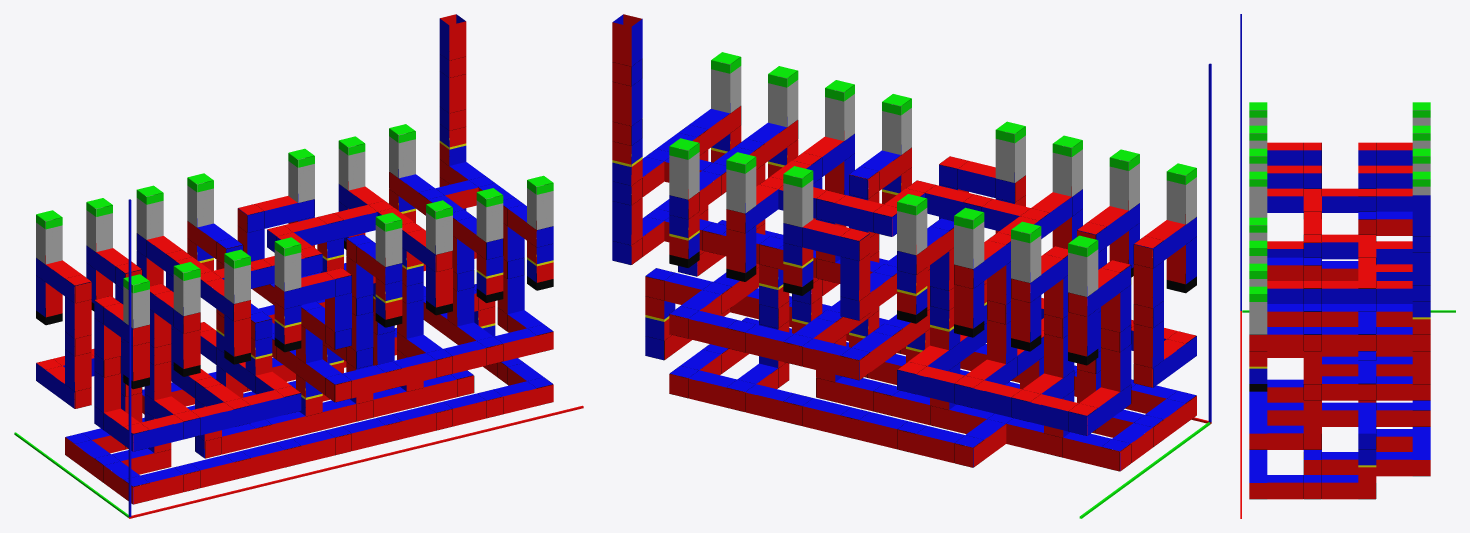
Rendered from factory162.gltf.
3 views of the same model, side by side, from view 1: azimuth 30°, elevation 25°; view 2: azimuth 150°, elevation 25°; view 3: azimuth 270°, elevation 25° (orthographic). The views are drawn at different scales.
Visible parts, largest first — view 1: axisI:-J, axisK:-J, axisI:+K, edgeK(7, 0, 3):-J, edgeK(1, 0, 2):-J, edgeK(3, 0, 3):-J, edgeK(1, 0, 3):-J, edgeK(5, 0, 2):-J, edgeK(7, 0, 2):-J, edgeK(5, 1, 1):-J, edgeK(8, 3, 4):-J, edgeK(5, 0, 3):-J (+12 smaller); view 2: axisK:+J, edgeJ(6, 3, 3):+J, edgeJ(8, 2, 0):+J, edgeJ(0, 1, 2):+J, edgeJ(5, 3, 2):+J, edgeJ(7, 3, 3):+J, edgeJ(8, 3, 2):+J, edgeJ(8, 3, 3):+J, edgeJ(8, 3, 4):+J, edgeJ(8, 3, 5):+J, edgeJ(0, 1, 1):+J, edgeJ(3, 0, 3):+J (+44 smaller); view 3: edgeJ(8, 0, 3):+I (×2), edgeJ(8, 1, 2):+I (×2), edgeJ(8, 2, 3):+I, edgeJ(4, 1, 3):+I, edgeJ(8, 1, 3):+I, edgeJ(8, 1, 1):+I, edgeJ(8, 3, 4):+I, edgeJ(2, 0, 3):+I, edgeJ(3, 2, 3):+I, edgeJ(7, 1, 1):+I, edgeJ(7, 2, 0):+I, edgeJ(7, 2, 1):+I (+111 smaller).
Boxes of the visible parts, x1,y1,x2,y2 form: axisI:-J: (129,406,583,518); axisK:-J: (129,200,131,516); axisI:+K: (131,405,583,516); edgeK(7, 0, 3):-J: (486,203,503,242); edgeK(1, 0, 2):-J: (183,330,200,368); edgeK(3, 0, 3):-J: (284,252,301,291); edgeK(1, 0, 3):-J: (183,277,200,315); edgeK(5, 0, 2):-J: (385,280,402,319); edgeK(7, 0, 2):-J: (486,256,503,295); edgeK(5, 1, 1):-J: (356,312,373,351); edgeK(8, 3, 4):-J: (449,74,466,112); edgeK(5, 0, 3):-J: (385,228,402,266); axisK:+J: (1208,64,1210,422); edgeJ(6, 3, 3):+J: (726,169,745,213); edgeJ(8, 2, 0):+J: (645,296,664,340); edgeJ(0, 1, 2):+J: (1133,264,1152,308); edgeJ(5, 3, 2):+J: (783,243,802,286); edgeJ(7, 3, 3):+J: (669,155,688,199); edgeJ(8, 3, 2):+J: (612,201,631,245); edgeJ(8, 3, 3):+J: (612,141,631,185); edgeJ(8, 3, 4):+J: (612,82,631,125); edgeJ(8, 3, 5):+J: (612,22,631,66); edgeJ(0, 1, 1):+J: (1133,324,1152,367); edgeJ(3, 0, 3):+J: (995,139,1014,182); edgeJ(8, 0, 3):+I (×2): (1249,302,1303,351); edgeJ(8, 1, 2):+I (×2): (1303,351,1358,400); edgeJ(8, 2, 3):+I: (1376,334,1412,351); edgeJ(4, 1, 3):+I: (1322,242,1358,259); edgeJ(8, 1, 3):+I: (1322,334,1358,351); edgeJ(8, 1, 1):+I: (1303,400,1321,433); edgeJ(8, 3, 4):+I: (1412,252,1430,285); edgeJ(2, 0, 3):+I: (1267,196,1303,212); edgeJ(3, 2, 3):+I: (1376,219,1412,235); edgeJ(7, 1, 1):+I: (1322,410,1358,426); edgeJ(7, 2, 0):+I: (1376,460,1412,476); edgeJ(7, 2, 1):+I: (1376,410,1412,426).
Bounding box in the file's own units: 27 × 18.5 × 11.88.
